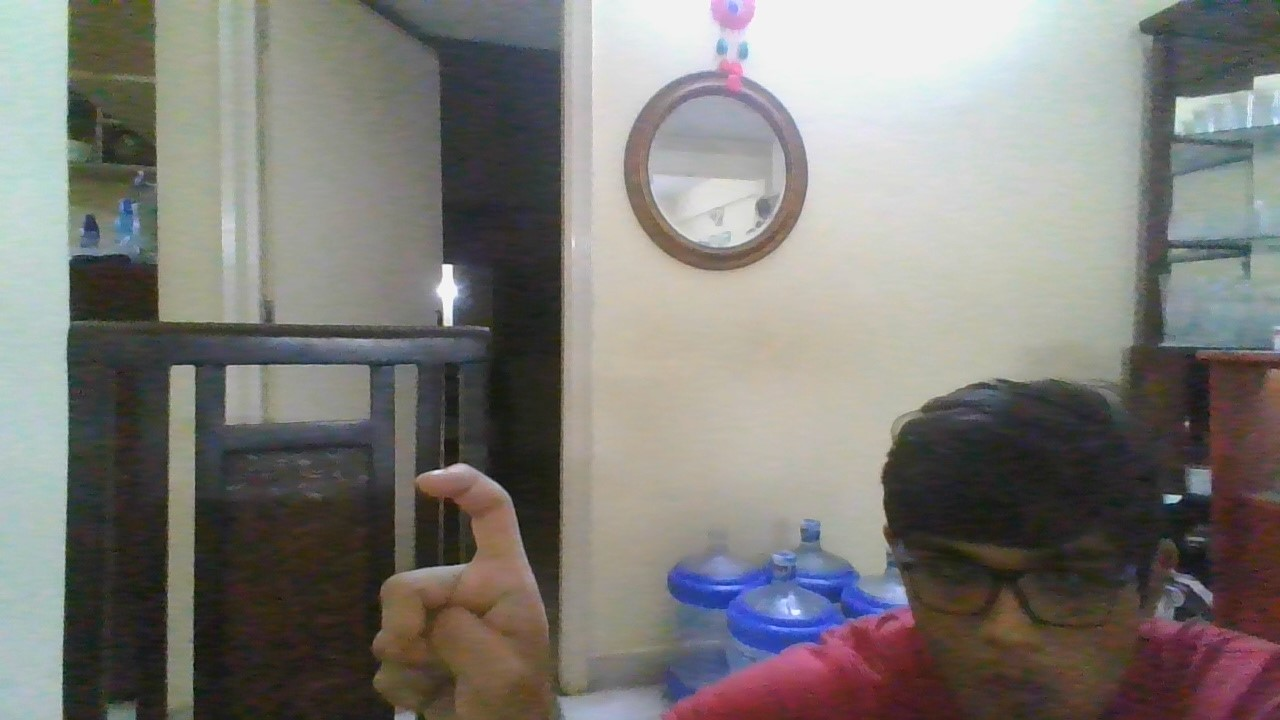x: (366, 459, 567, 720)
